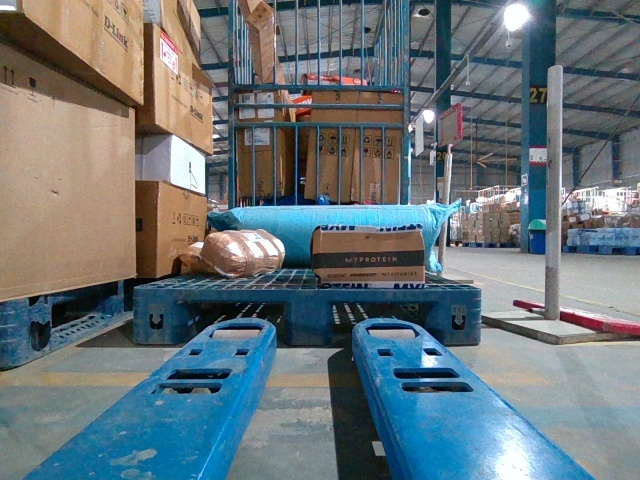block: (132, 286, 188, 344), (281, 289, 337, 346), (434, 288, 482, 344)
front: (132, 289, 479, 346)
hole pallet: (182, 301, 288, 344), (331, 303, 435, 345)
